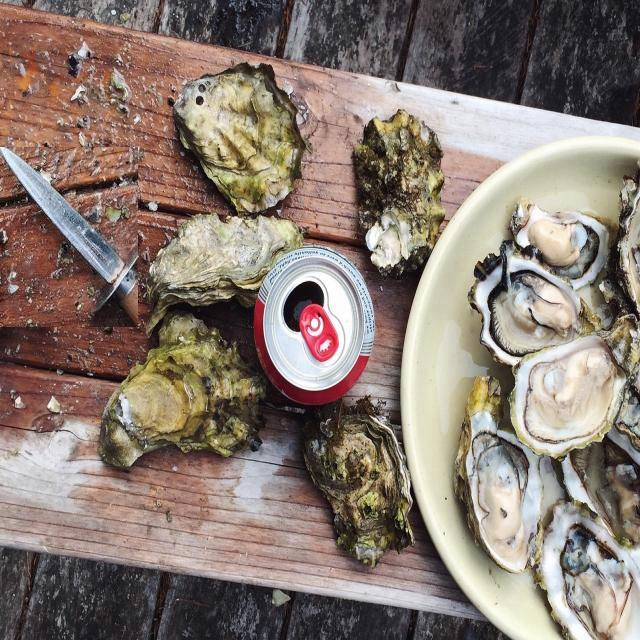Knife: (0, 147, 138, 327)
